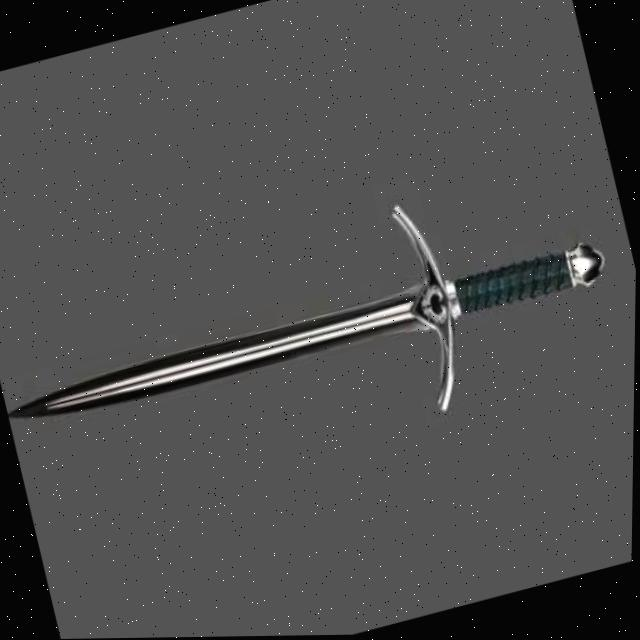knife: (0, 145, 629, 528)
